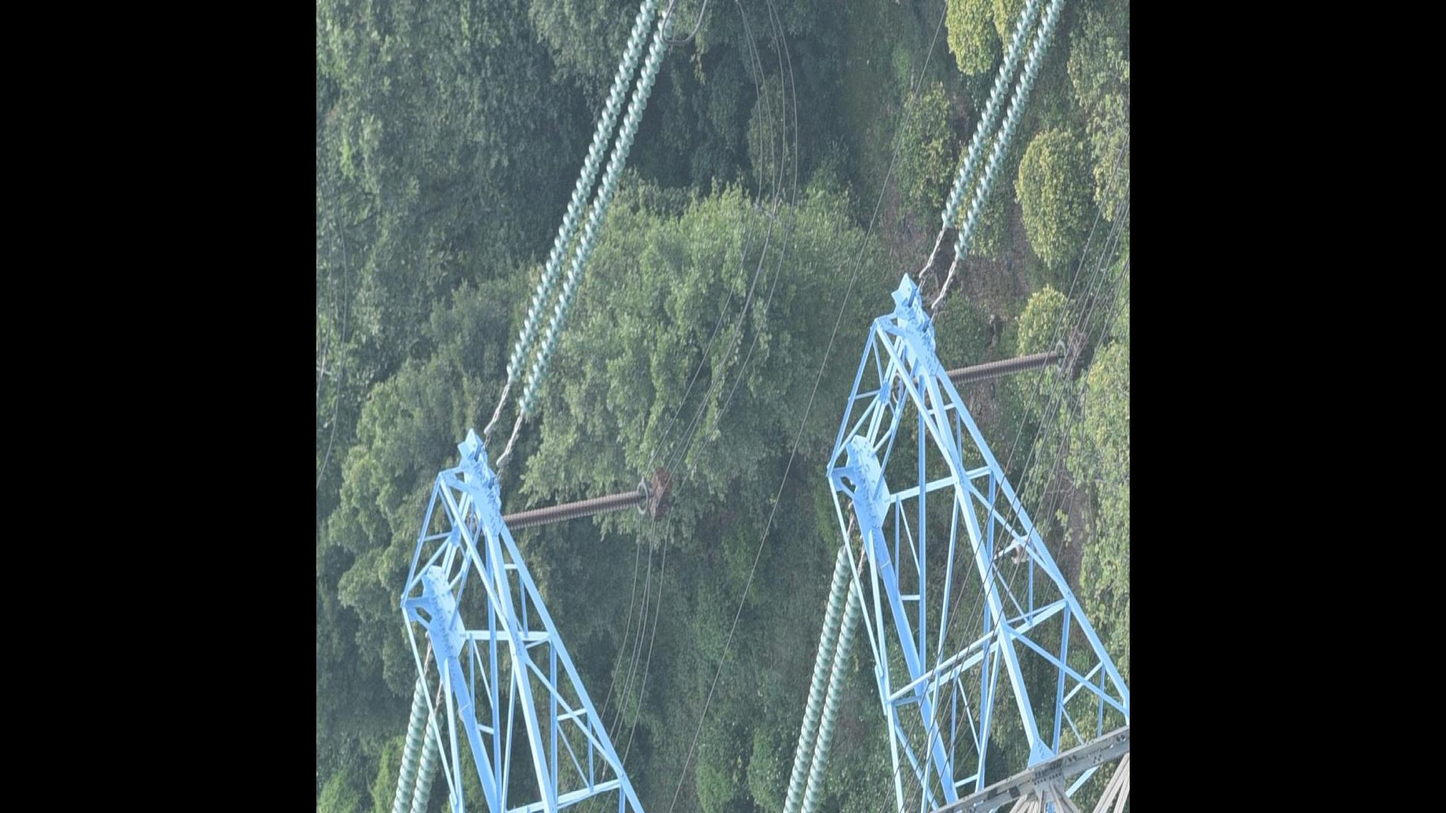insulator: (502, 1, 679, 419), (938, 1, 1068, 265), (780, 544, 865, 813), (388, 674, 447, 813), (503, 489, 642, 533), (946, 349, 1061, 387)
